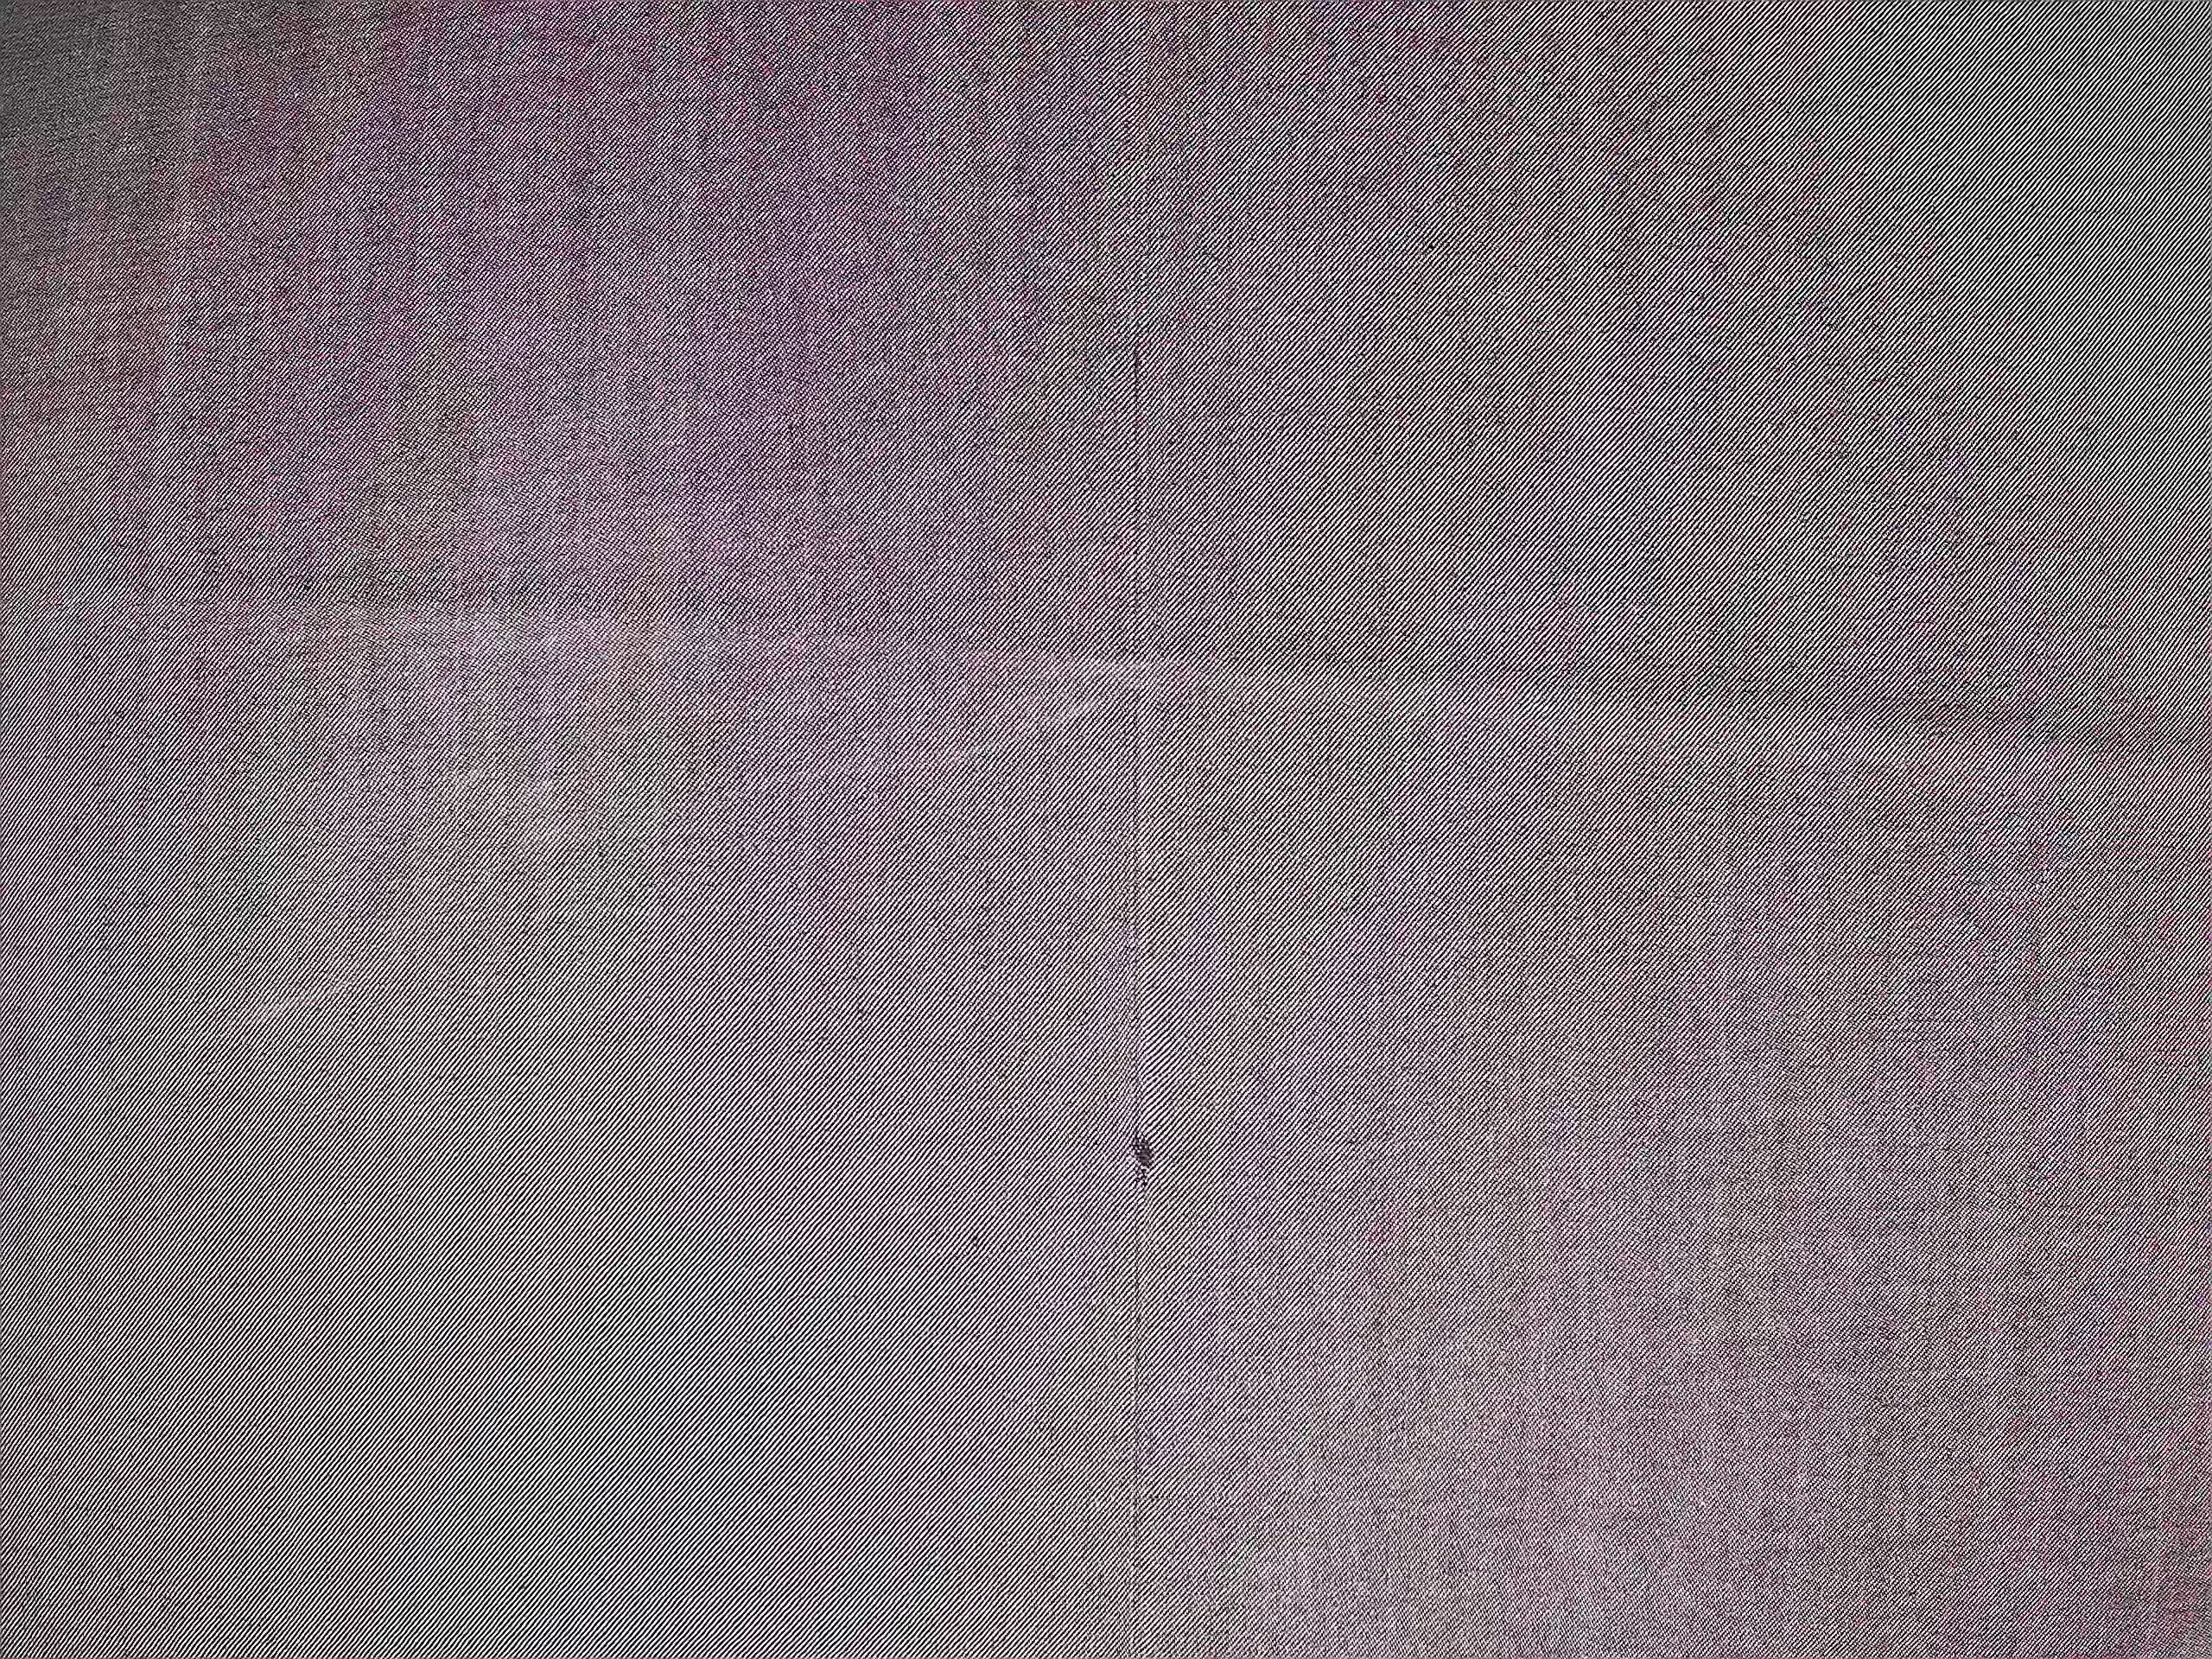hanging-warp: (1115, 333, 1163, 1640)
